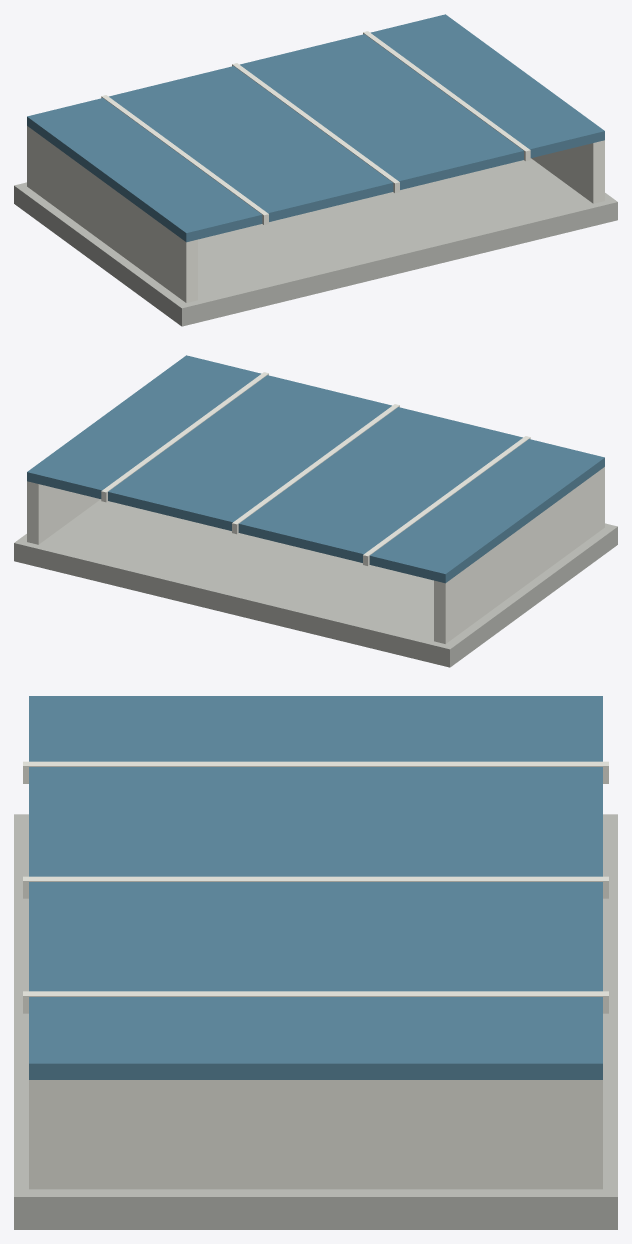
Rendered from american-football-stadium-kit-concourse-rooflight-d064641d__22363.glb.
The picture shows the model from 3 angles, top to bottom: view 1: azimuth 30°, elevation 25°; view 2: azimuth 150°, elevation 25°; view 3: azimuth 270°, elevation 25°; orthographic projection. The views are drawn at different scales.
Visible parts, largest first — view 1: concourse-rooflight; view 2: concourse-rooflight; view 3: concourse-rooflight.
Boxes of the visible parts, x1,y1,x2,y2 form: concourse-rooflight: (14, 14, 617, 326); concourse-rooflight: (14, 355, 617, 667); concourse-rooflight: (14, 696, 617, 1229).
Bounding box in the file's own units: 3 × 0.5838 × 2.
